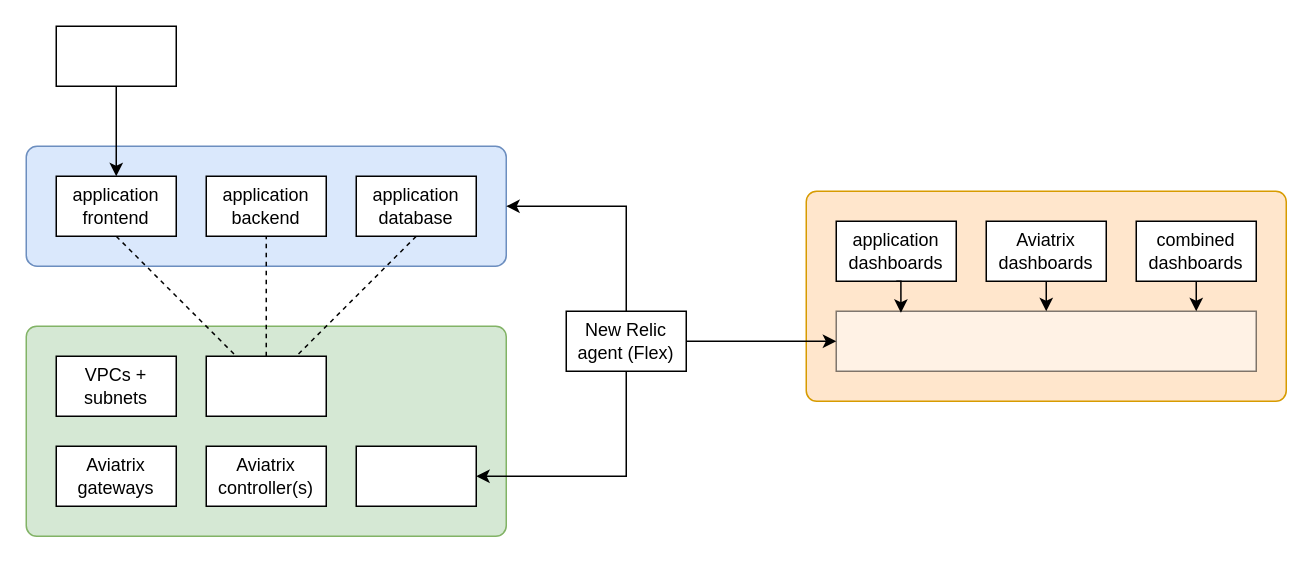
Some shapes in this 1313 by 563 pixel diagram are drawn without their labels. Here are the shapes that lost their labels. From the top down, the box of each, then its label:
(55, 25, 176, 86): traffic generators
(835, 310, 1256, 371): data store
(205, 355, 326, 416): EC2 instances
(355, 445, 476, 506): Aviatrix CoPilot
